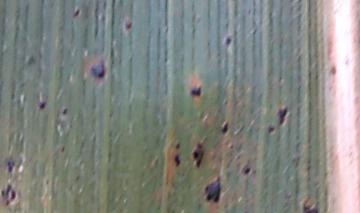tarspot: (203, 174, 222, 205), (190, 138, 205, 168), (1, 183, 20, 206), (90, 57, 107, 80), (275, 103, 289, 127), (301, 198, 320, 213), (3, 157, 17, 176), (187, 85, 204, 98), (218, 119, 230, 136), (170, 153, 183, 168), (34, 100, 48, 111), (240, 164, 252, 176), (59, 104, 70, 117), (265, 123, 275, 136), (123, 19, 134, 30), (171, 140, 182, 151), (71, 6, 80, 19), (223, 36, 233, 45)
